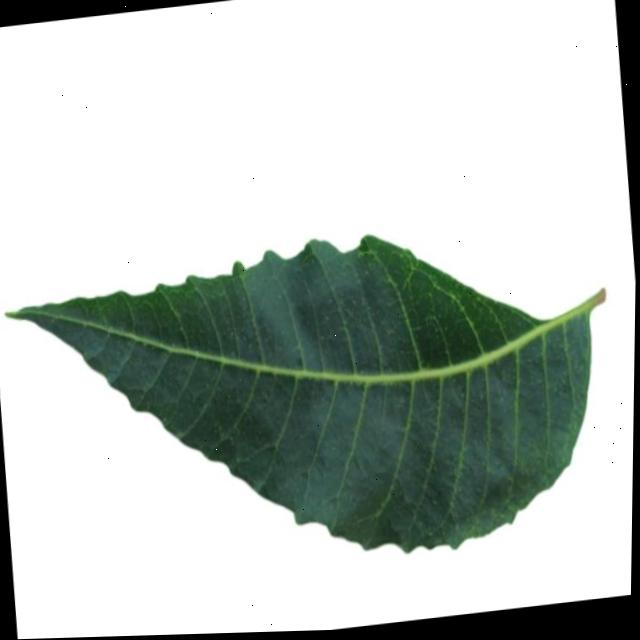Wet: (0, 165, 638, 640)
